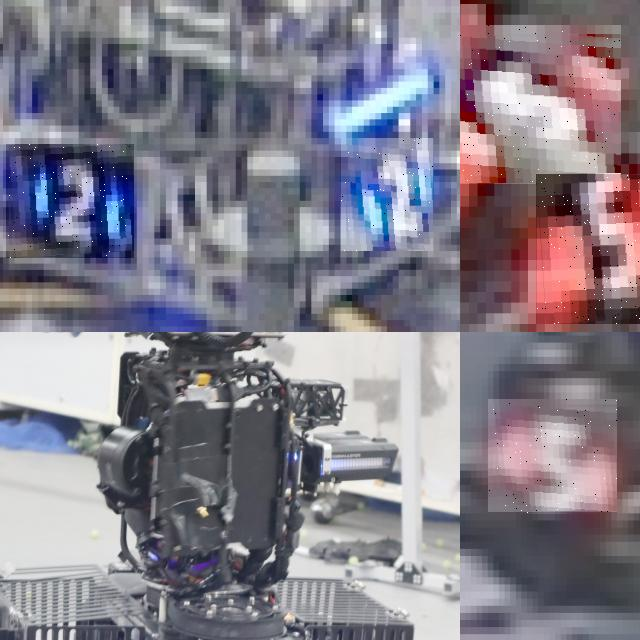B2: (6, 144, 134, 258), (341, 138, 433, 251)
R5: (460, 25, 620, 185), (536, 174, 640, 324), (488, 399, 617, 514)
